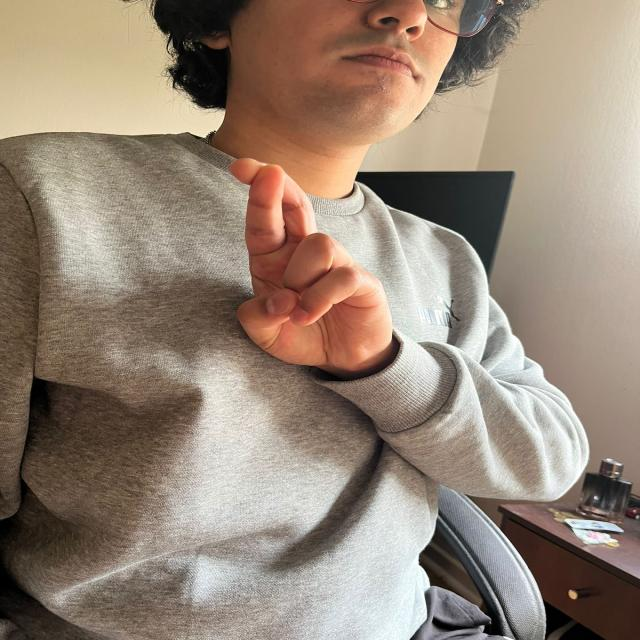R: (220, 143, 401, 374)
